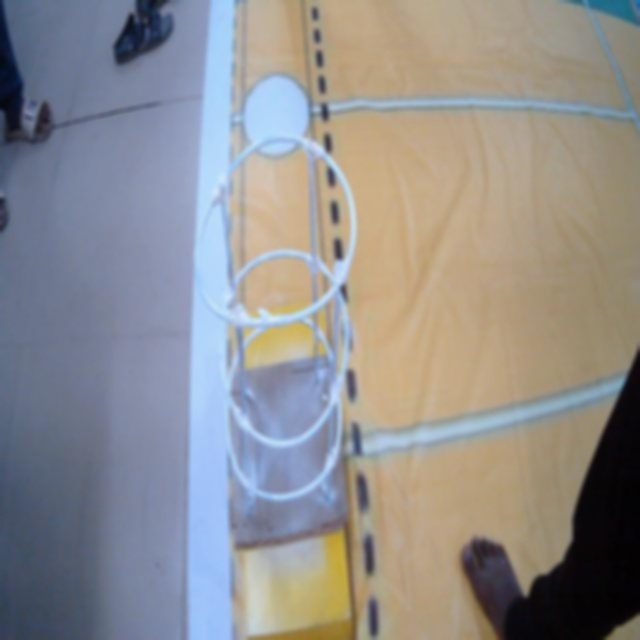silo: (185, 119, 372, 538)
